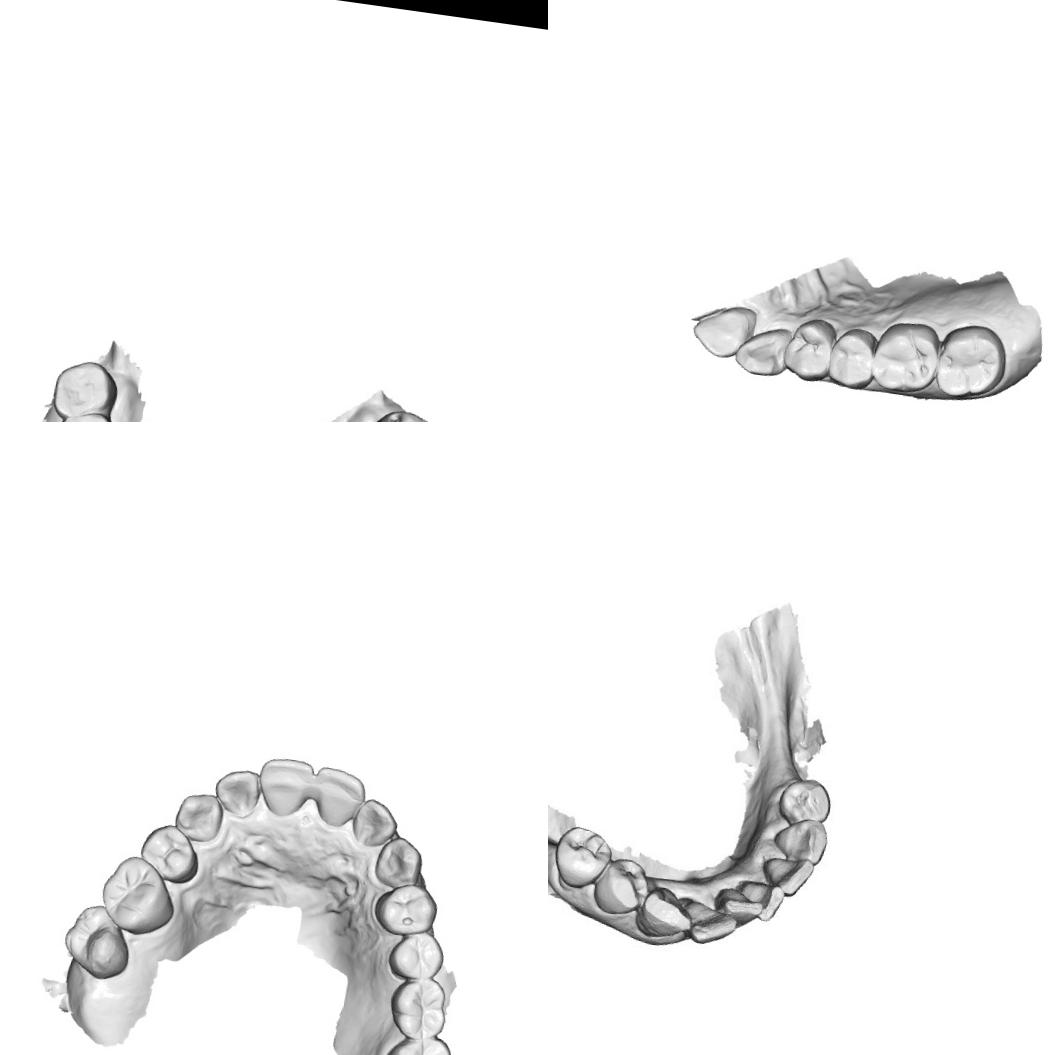canine: (731, 322, 794, 380), (170, 788, 228, 846), (372, 832, 426, 891), (638, 883, 688, 938), (777, 814, 828, 864)
incisor: (254, 751, 316, 821), (308, 764, 370, 832), (688, 300, 756, 361), (682, 895, 742, 950), (210, 763, 265, 820), (350, 795, 402, 851), (740, 880, 788, 924), (764, 856, 815, 896), (723, 890, 764, 924)
molar: (97, 851, 182, 940), (932, 318, 1011, 404), (59, 899, 138, 984), (870, 316, 943, 396), (46, 354, 122, 422), (384, 974, 452, 1045), (379, 1029, 454, 1055), (360, 403, 452, 422)
premolar: (136, 820, 204, 888), (370, 877, 442, 940), (780, 314, 838, 384), (552, 822, 612, 886), (824, 324, 880, 392), (385, 926, 448, 985), (592, 863, 648, 920), (780, 774, 836, 828)
